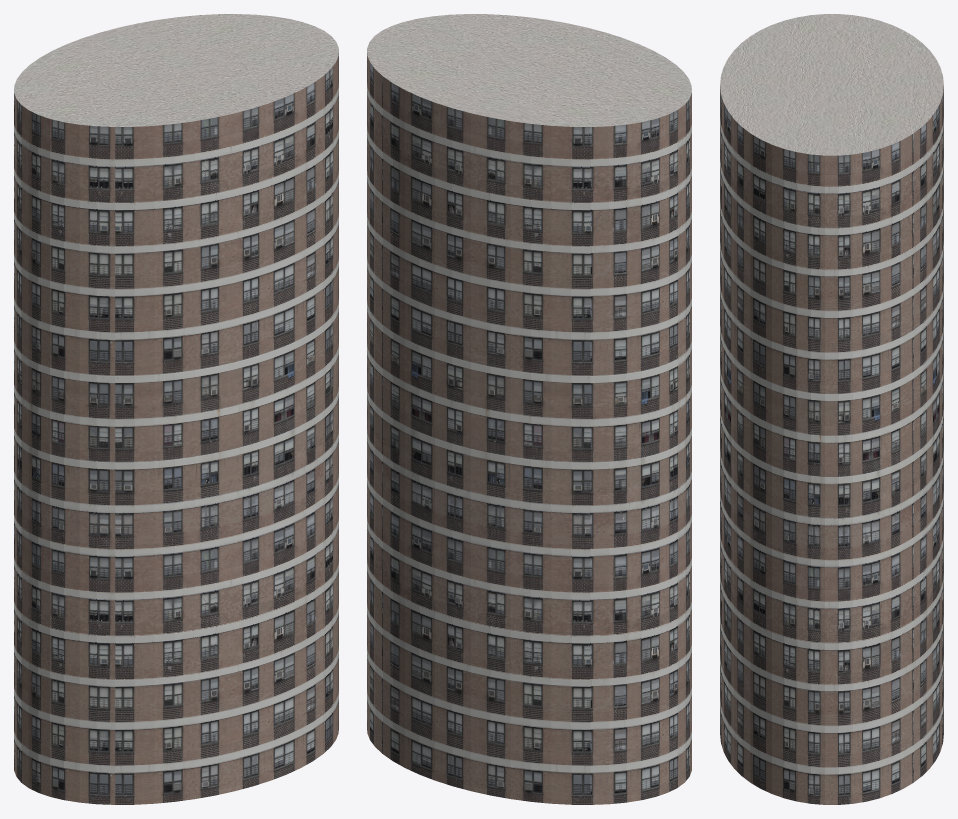
The model's file is building_002.fbx.
The picture shows the model from 3 angles, left to right: view 1: azimuth 30°, elevation 25°; view 2: azimuth 150°, elevation 25°; view 3: azimuth 270°, elevation 25°; orthographic projection. The views are drawn at different scales.
Parts seen in each view (by area): view 1: building_002; view 2: building_002; view 3: building_002.
Part boxes in pixels (x1=…): building_002: x1=14, y1=14, x2=338, y2=804; building_002: x1=367, y1=14, x2=691, y2=804; building_002: x1=720, y1=14, x2=943, y2=804.
Size of the model in its own units: 1497 by 3200 by 1000.
